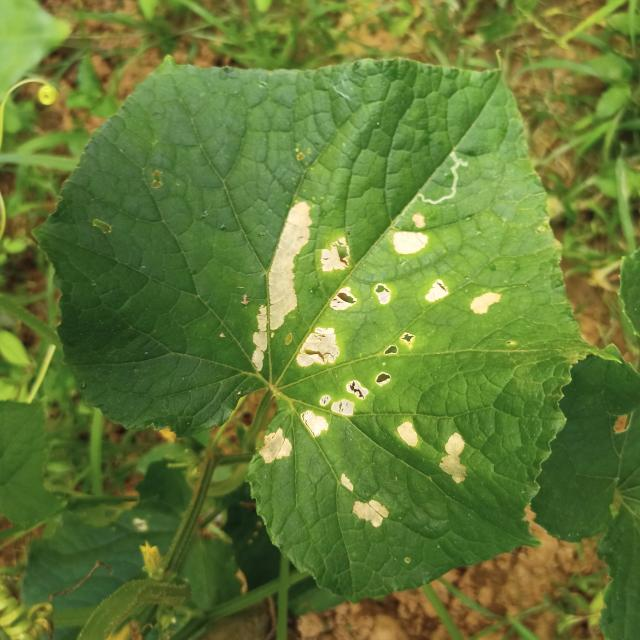disease_cucumber: (249, 198, 504, 471), (396, 422, 469, 484), (336, 472, 392, 534)
